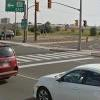Crosswalk: (20, 47, 75, 67)
